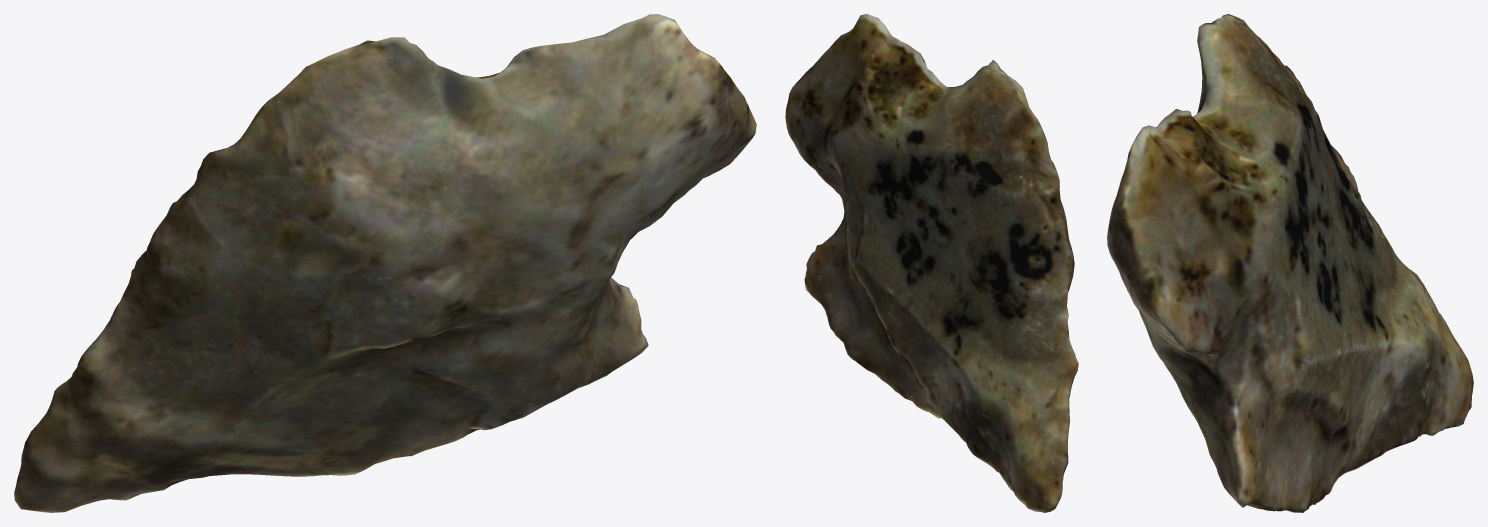
3 views of the same model, side by side, from view 1: azimuth 30°, elevation 25°; view 2: azimuth 150°, elevation 25°; view 3: azimuth 270°, elevation 25° (orthographic). The views are drawn at different scales.
Visible parts, largest first — view 1: ObjectCapture; view 2: ObjectCapture; view 3: ObjectCapture.
Part boxes in pixels (x1,y1,x2,y2): ObjectCapture: [14, 14, 756, 512]; ObjectCapture: [785, 14, 1078, 512]; ObjectCapture: [1107, 14, 1473, 512].
Bounding box in the file's own units: 0.1243 × 0.1088 × 0.0743.
1 material, 1 textured.
